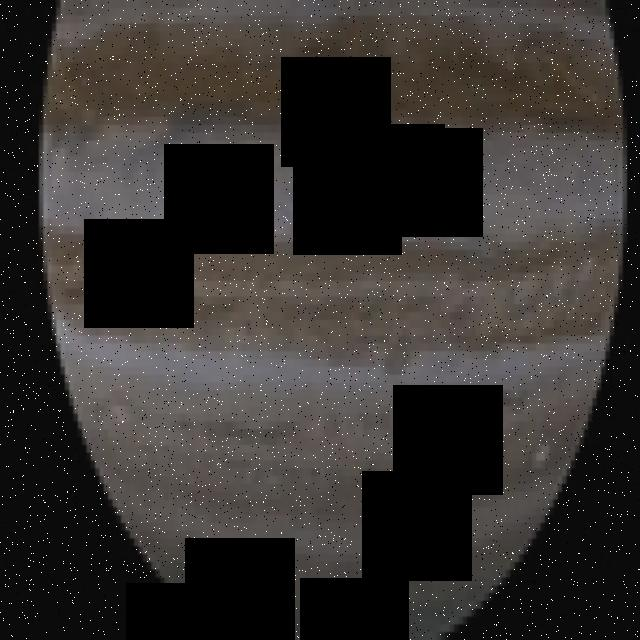Jupiter: (35, 0, 627, 640)
